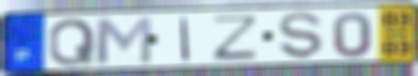0: (330, 9, 375, 59)
I: (179, 16, 192, 62)
M: (92, 15, 155, 66)
Q: (47, 17, 98, 68)
S: (276, 11, 325, 61)
Z: (210, 13, 262, 62)
